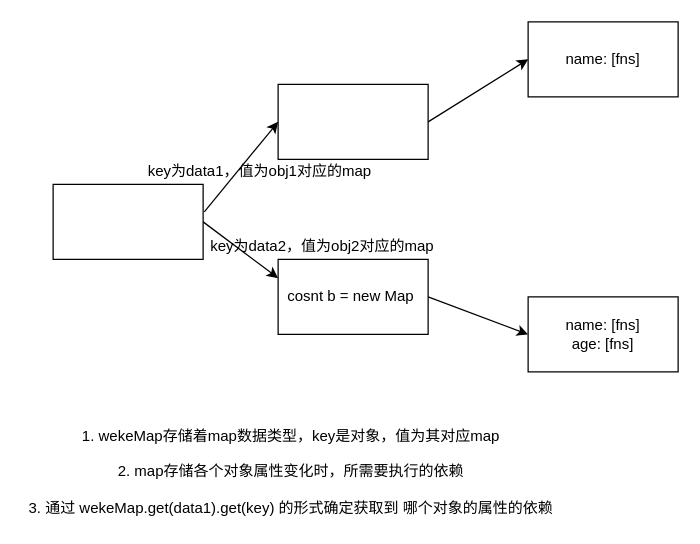
This 700x544 diagram has some shape labels left out. The centre of each missing label's shape, as x and y in pixels:
cosnt a = new Map: the point at 352,121
new WeakMap: the point at 127,221
